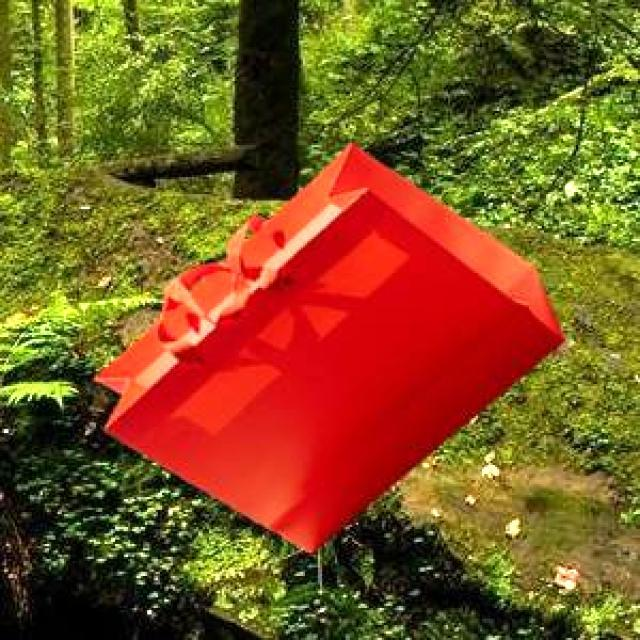Paper_Bag: (90, 142, 560, 550)
